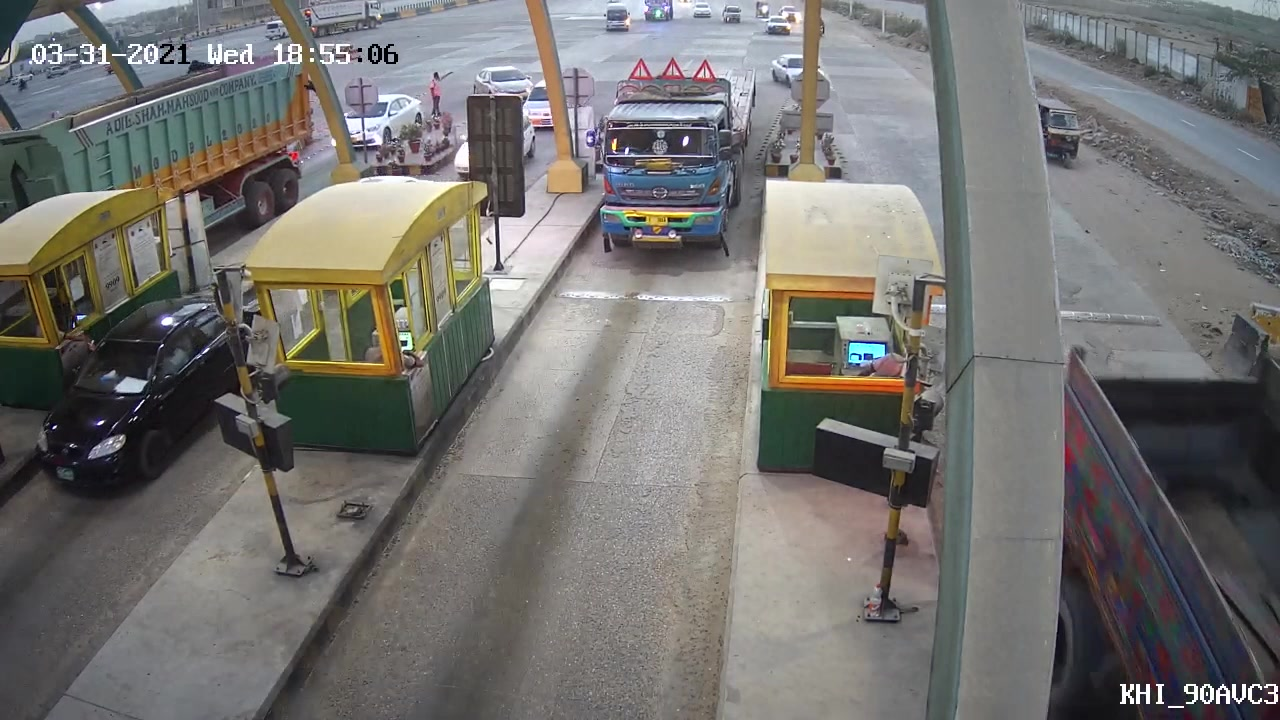F6: (582, 43, 761, 256)
